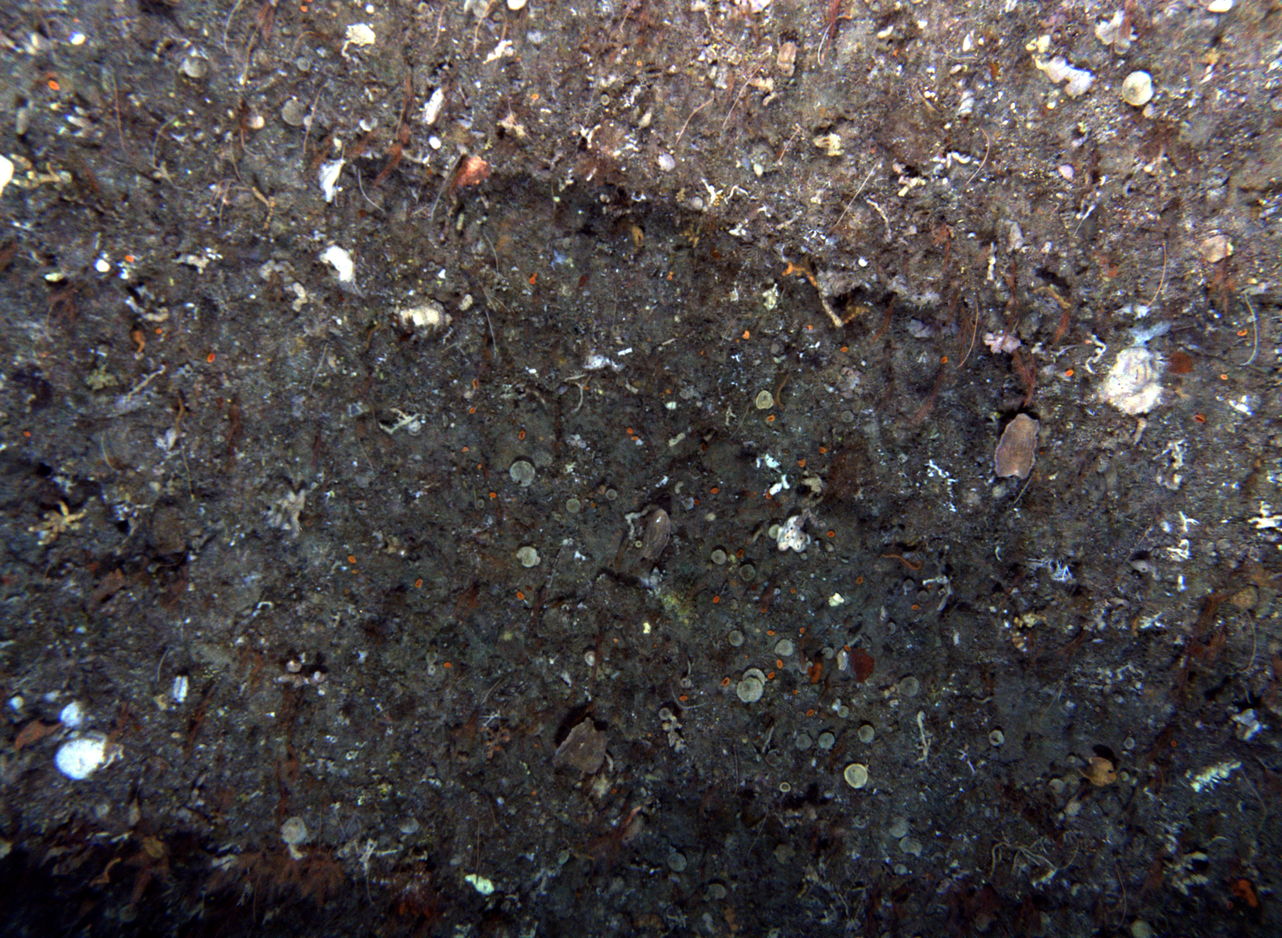Brachionichthyidae: (87, 565, 129, 613)
